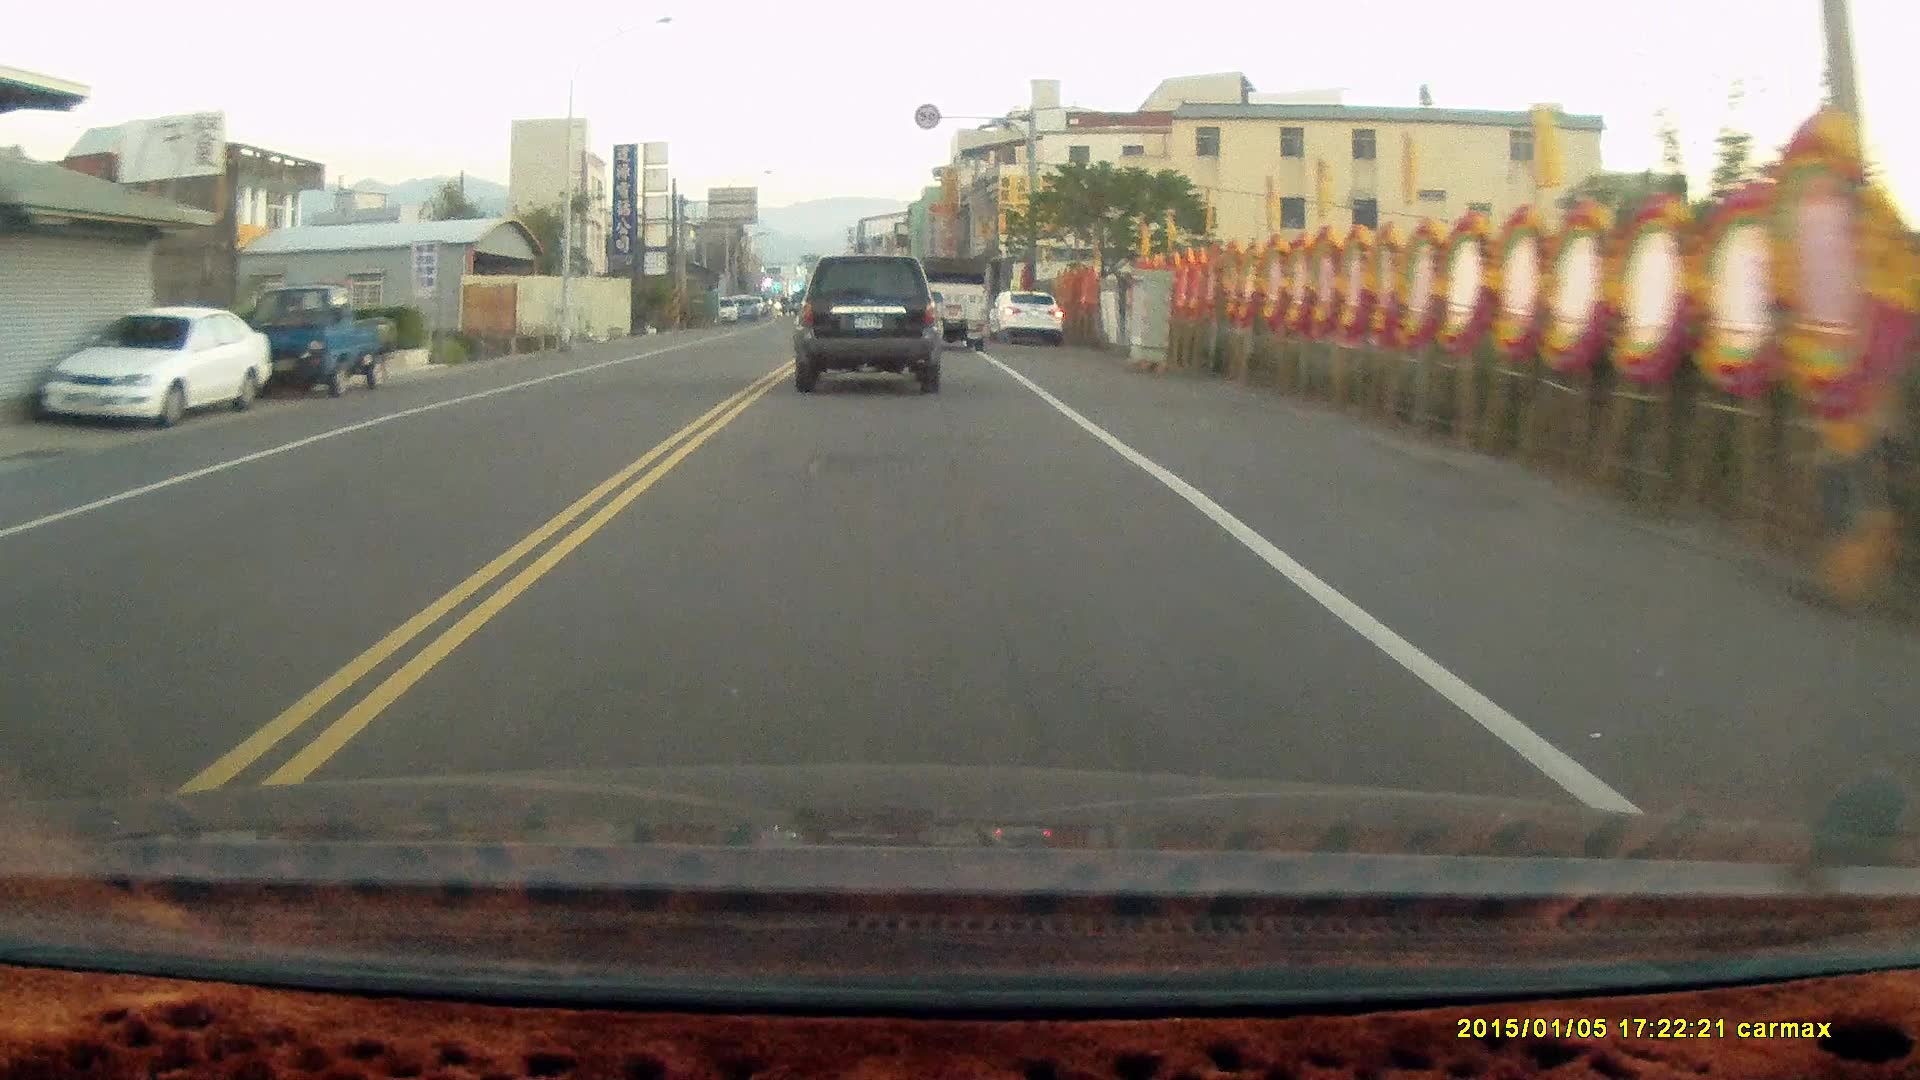vehicle: (42, 307, 269, 423), (796, 255, 945, 396), (233, 284, 402, 401), (914, 253, 992, 351), (996, 286, 1065, 345)
